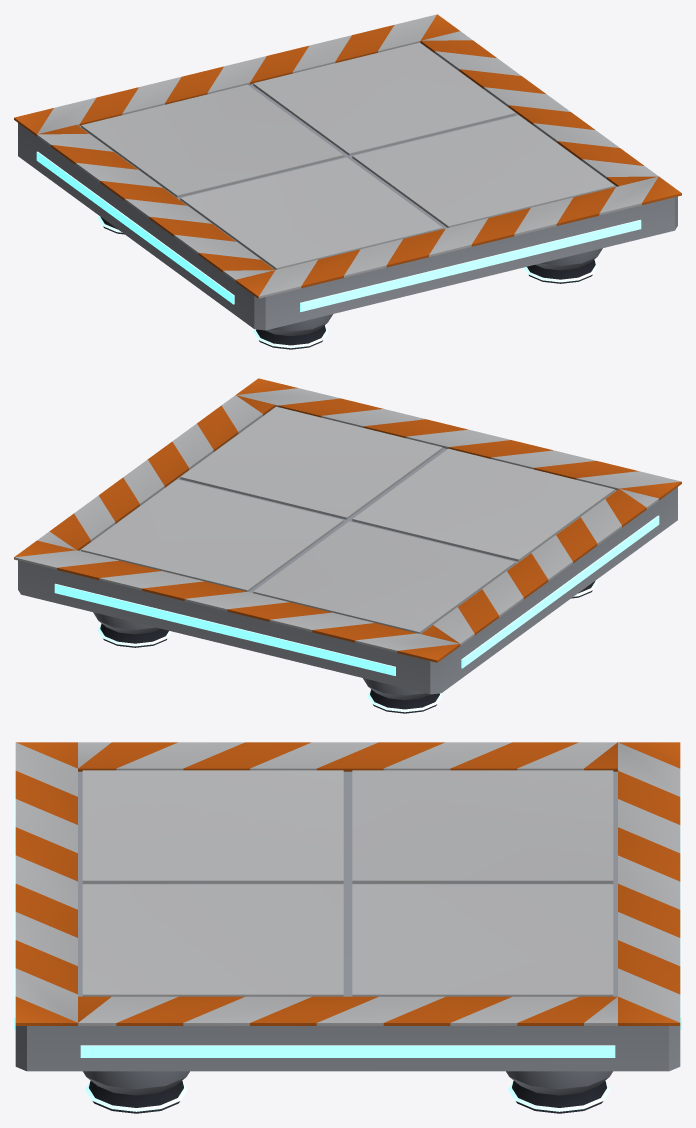
The model's file is platform_space.glb.
3 renders of one model, top to bottom at view 1: azimuth 30°, elevation 25°; view 2: azimuth 150°, elevation 25°; view 3: azimuth 270°, elevation 25°, orthographic. The views are drawn at different scales.
Parts seen in each view (by area): view 1: platform_space; view 2: platform_space; view 3: platform_space.
Part boxes in pixels (x1=…): platform_space: x1=14, y1=14, x2=681, y2=349; platform_space: x1=14, y1=378, x2=681, y2=713; platform_space: x1=14, y1=742, x2=681, y2=1113.
Size of the model in its own units: 3 by 0.6 by 3.
